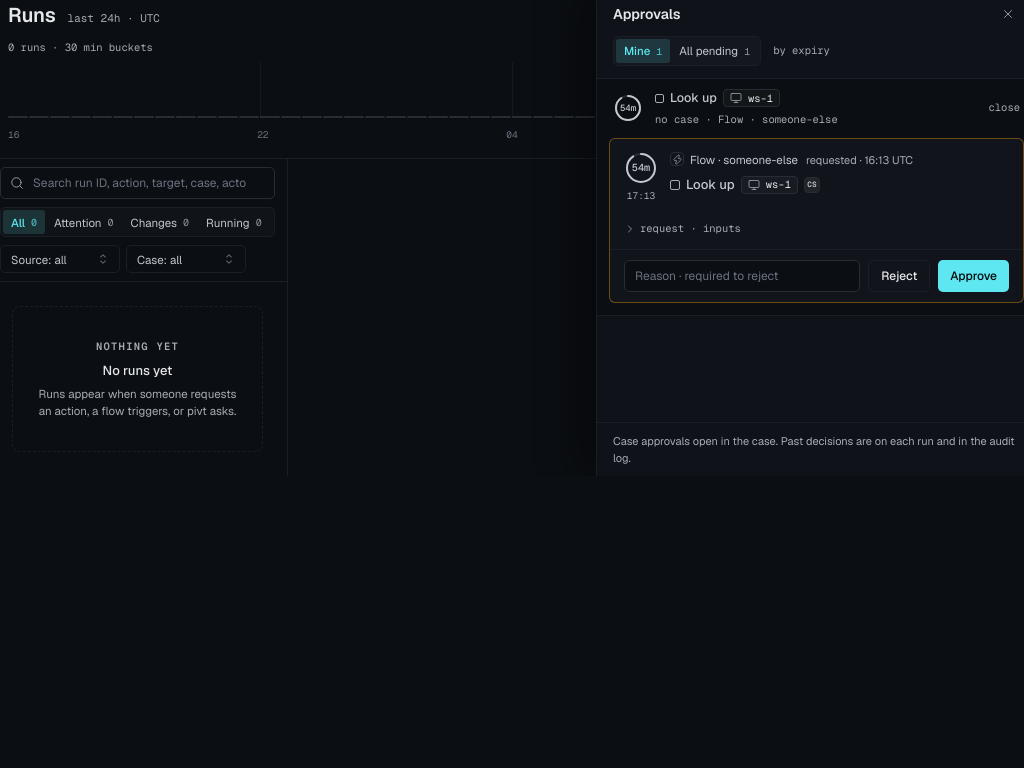
it: Approvals › NAN-4544: 409 uses the decider name
In the field named "Decision reason": (742, 276) [624,260,860,292], type "not needed"
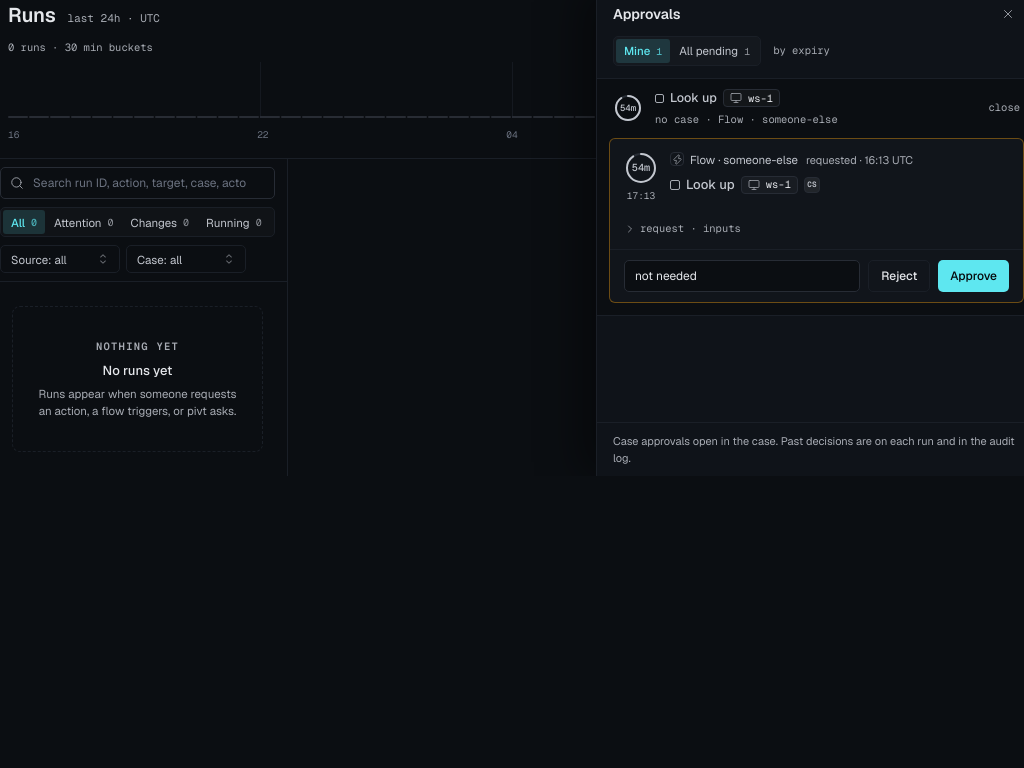
Click the button "Reject": (899, 276) [868,260,930,292]
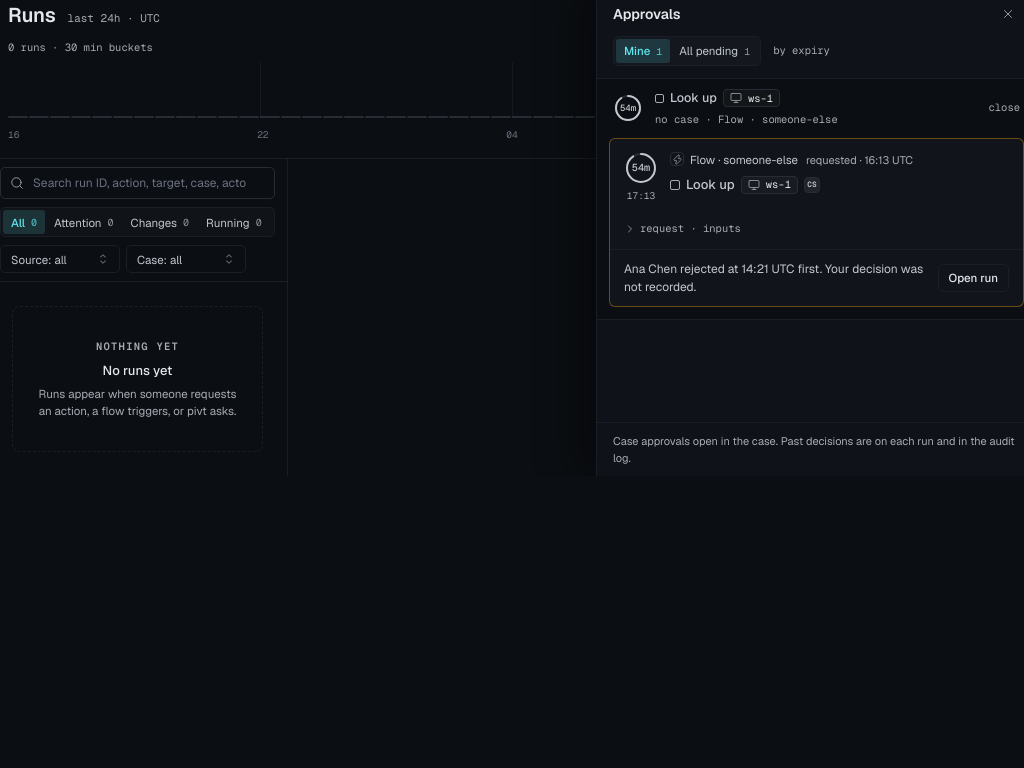
Result: the text "Ana Chen rejected at 14:21 UTC first. Your decision was not recorded." is shown at [624,260,930,296]
